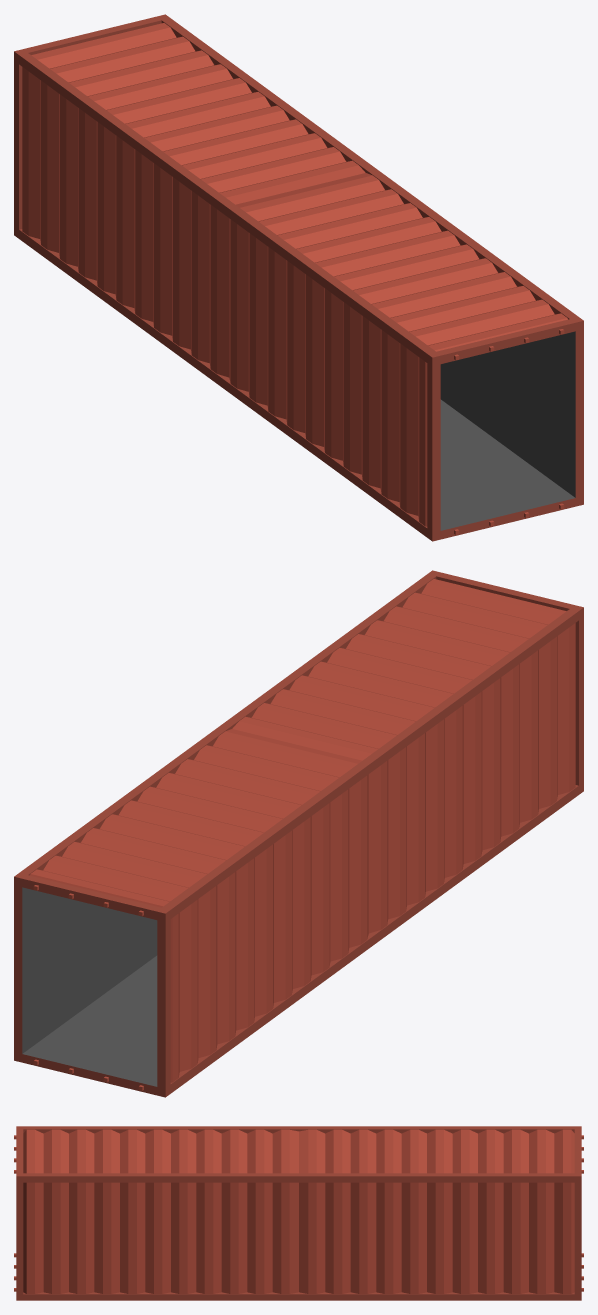
The model's file is ShippingContainer_04.fbx.
The picture shows the model from 3 angles, top to bottom: view 1: azimuth 30°, elevation 25°; view 2: azimuth 150°, elevation 25°; view 3: azimuth 270°, elevation 25°; orthographic projection. The views are drawn at different scales.
Visible parts, largest first — view 1: ShippingContainer_04; view 2: ShippingContainer_04; view 3: ShippingContainer_04.
Boxes of the visible parts, x1,y1,x2,y2 form: ShippingContainer_04: (14, 14, 583, 541); ShippingContainer_04: (14, 570, 583, 1097); ShippingContainer_04: (14, 1126, 583, 1300).
Size of the model in its own units: 250 by 290 by 1205.
